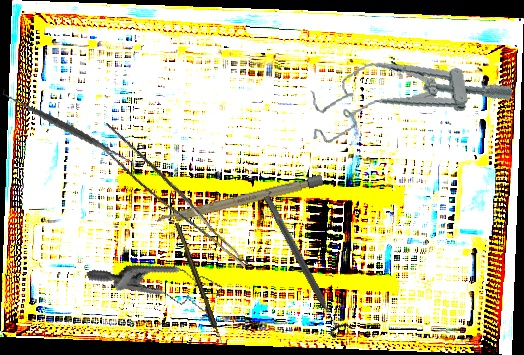Fixation Ring: (255, 190, 354, 340)
Hook Surgical: (173, 221, 225, 347)
Scalpel Handle: (155, 174, 324, 227)
Spatula Surgical: (2, 65, 136, 193)
Speculum: (302, 41, 516, 147), (86, 230, 230, 352)
Tissue Forceps: (88, 122, 263, 268)
